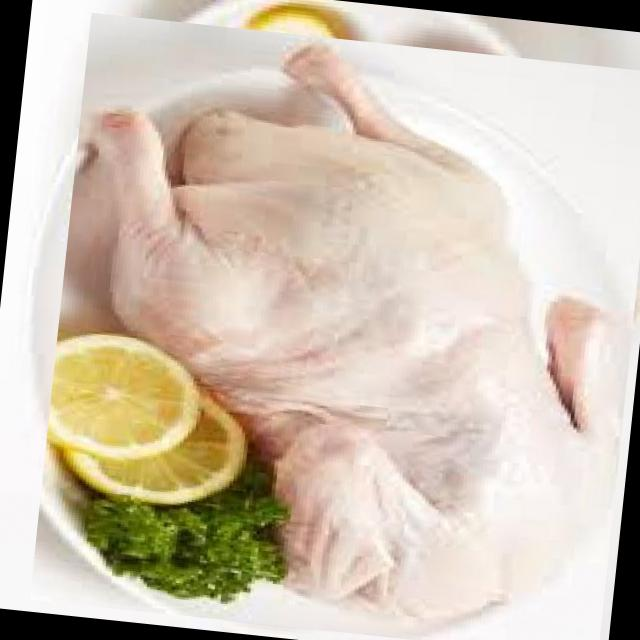chicken: (24, 15, 640, 640)
